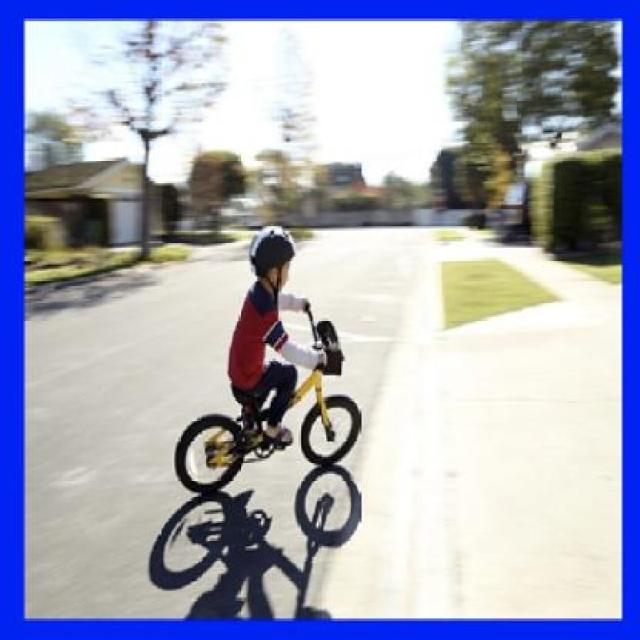With Helmet: (245, 218, 298, 300)
